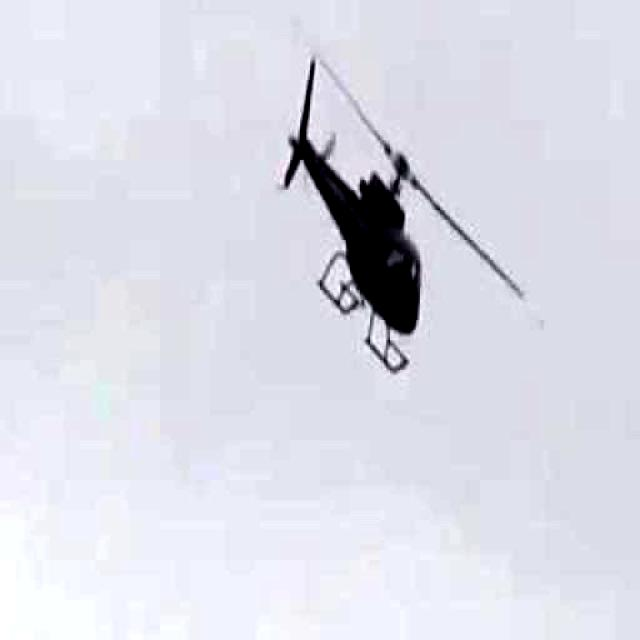drone: (185, 2, 521, 421)
